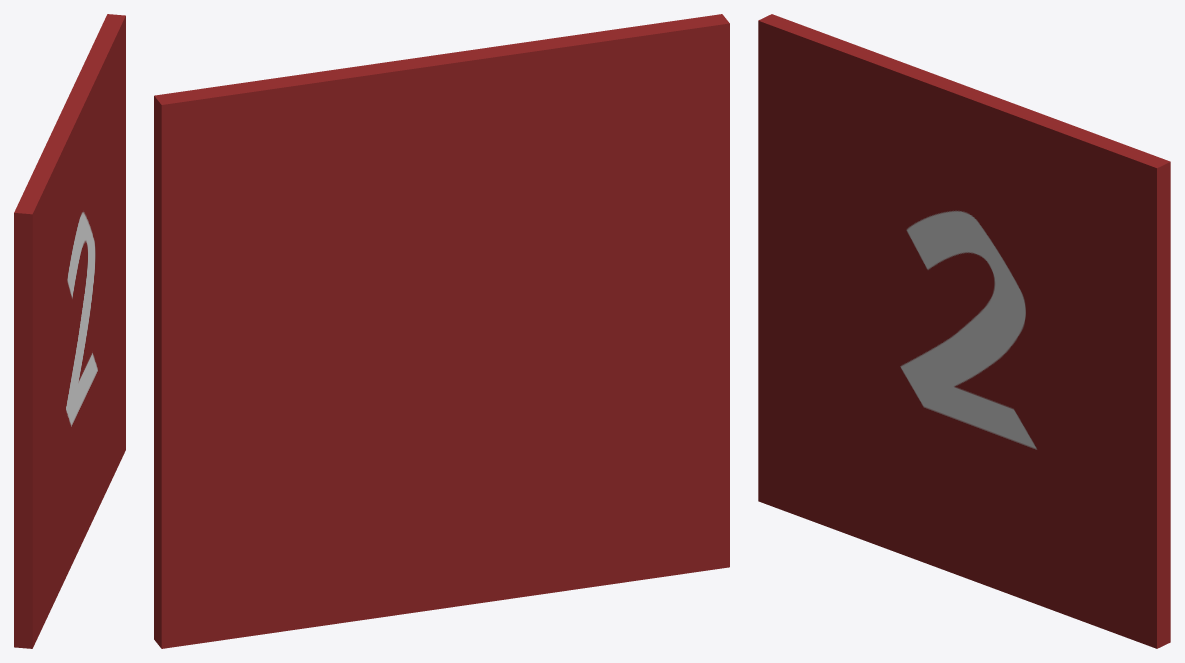
File: flap01.glb
3 renders of one model, left to right at view 1: azimuth 30°, elevation 25°; view 2: azimuth 150°, elevation 25°; view 3: azimuth 270°, elevation 25°, orthographic. The views are drawn at different scales.
Parts seen in each view (by area): view 1: flap.001; view 2: flap.001; view 3: flap.001.
Part boxes in pixels (x1,y1,x2,y2): flap.001: (14, 14, 125, 648); flap.001: (154, 14, 729, 648); flap.001: (758, 14, 1170, 648).
Bounding box in the file's own units: 0.1721 × 0.25 × 0.1945.
1 material, 1 textured.
